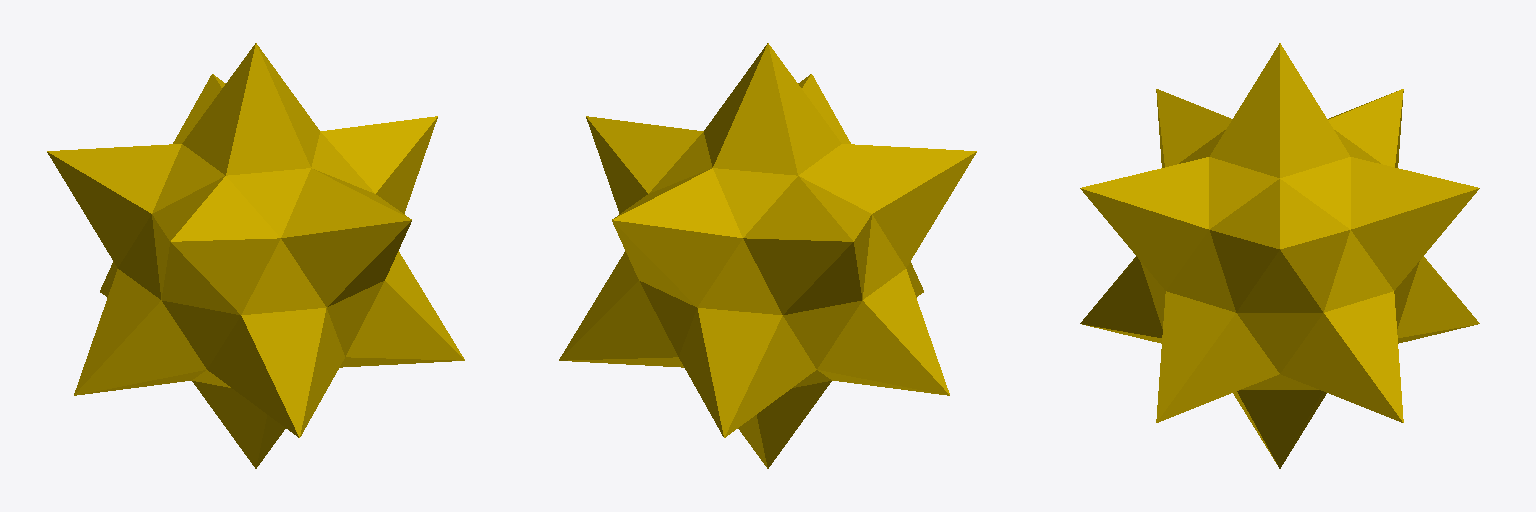
File: power_up-1.obj
3 renders of one model, left to right at view 1: azimuth 30°, elevation 25°; view 2: azimuth 150°, elevation 25°; view 3: azimuth 270°, elevation 25°, orthographic.
Visible parts, largest first — view 1: PowerUp_Icosphere; view 2: PowerUp_Icosphere; view 3: PowerUp_Icosphere.
Part boxes in pixels (bbox=[...]): PowerUp_Icosphere: bbox=[47, 43, 464, 468]; PowerUp_Icosphere: bbox=[559, 43, 976, 468]; PowerUp_Icosphere: bbox=[1080, 43, 1479, 468].
Size of the model in its own units: 1.79 by 2 by 1.7.